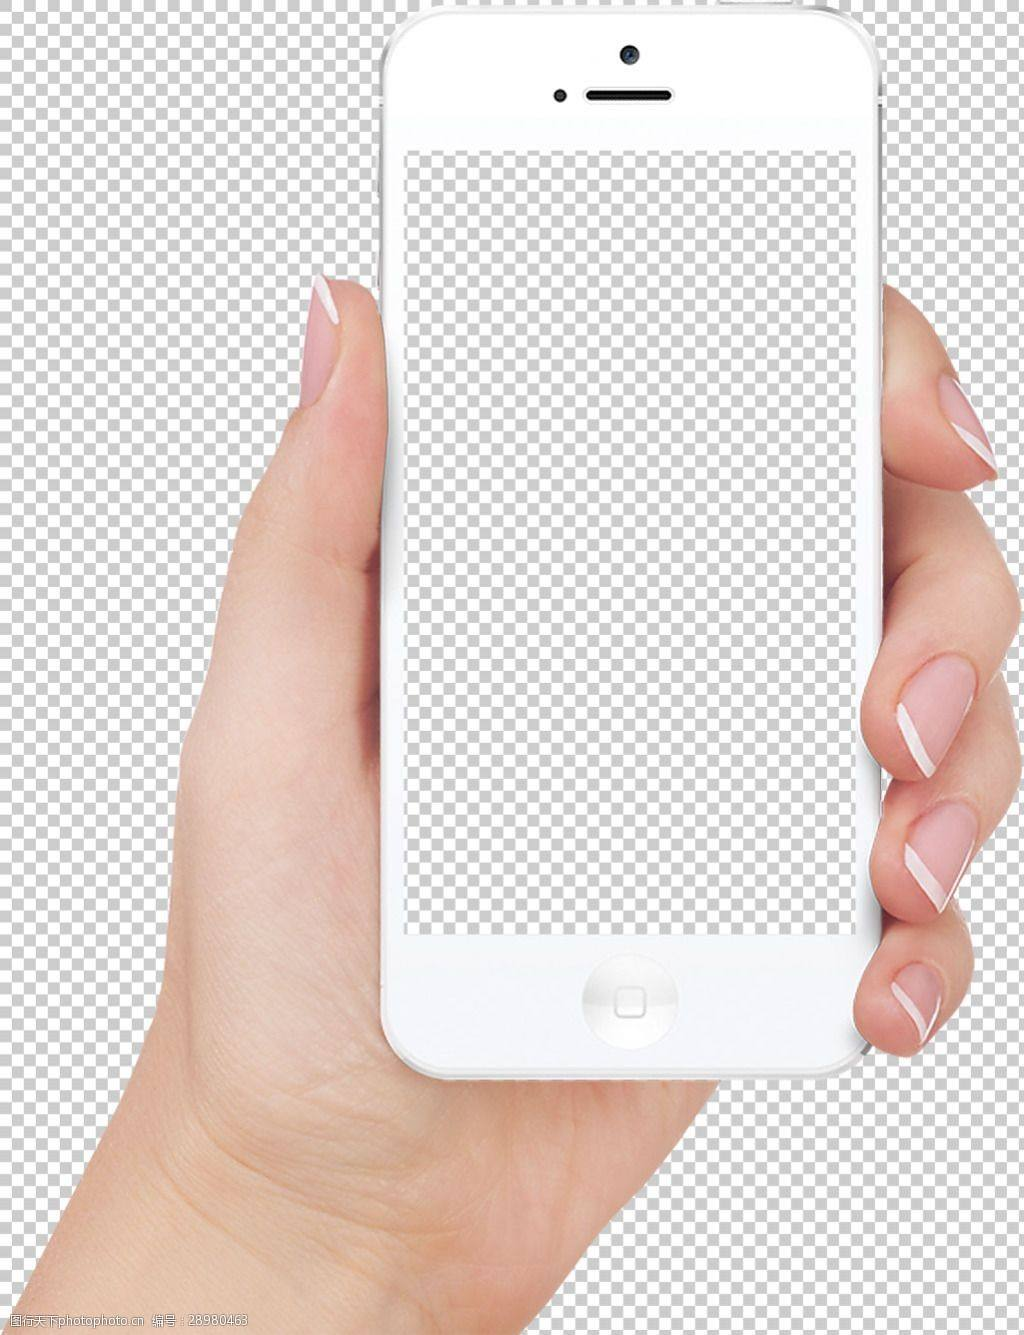phone: (154, 1, 1024, 1311)
